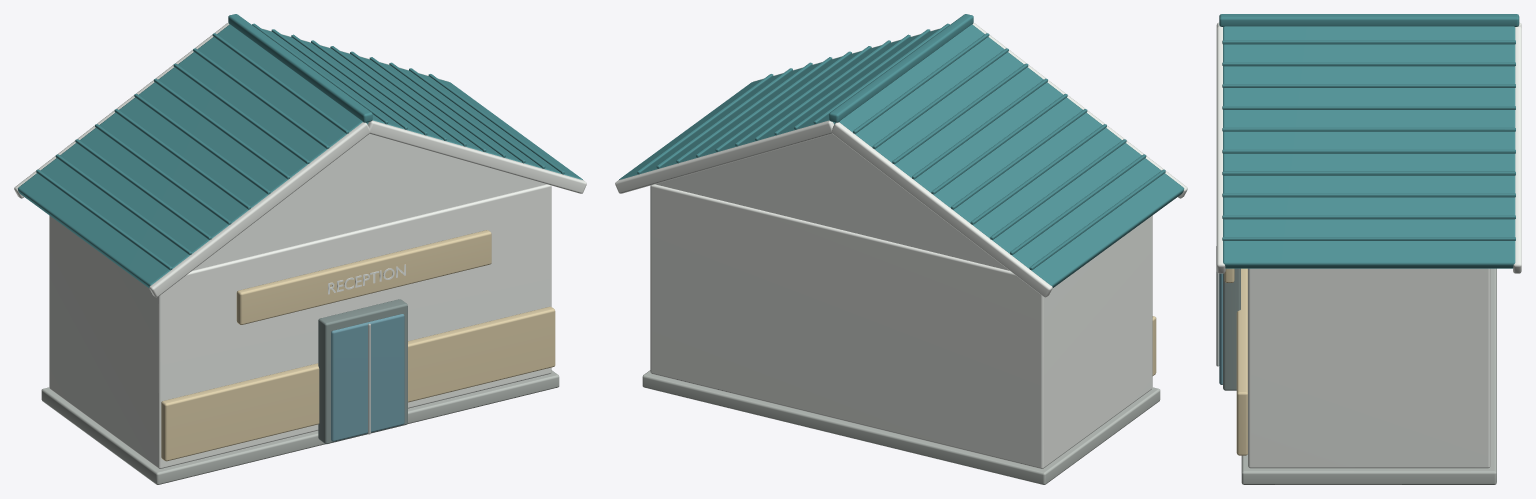
File: reception.glb
The picture shows the model from 3 angles, left to right: view 1: azimuth 30°, elevation 25°; view 2: azimuth 150°, elevation 25°; view 3: azimuth 270°, elevation 25°; orthographic projection. The views are drawn at different scales.
Visible parts, largest first — view 1: Building shell.003, Pitched roof plane.006, Facade accent.003, Triangular gable walls.003, Department sign.003, Entrance double glass doors.003, Pitched roof plane.007, Foundation.003, White gable fascia.012, Entrance door frame.003, White gable fascia.014, Roof ridge cap.003 (+20 smaller); view 2: Building shell.003, Pitched roof plane.006, Triangular gable walls.003, Foundation.003, Pitched roof plane.007, White gable fascia.013, White gable fascia.015, Roof ridge cap.003, White gable fascia.012, Roof tile course.069, Roof tile course.066, Roof tile course.068 (+16 smaller); view 3: Pitched roof plane.007, Building shell.003, Foundation.003, Roof ridge cap.003, Facade accent.003, White gable fascia.014, Entrance door frame.003, White gable fascia.015, Roof tile course.070, Roof tile course.075, Roof tile course.077, Roof tile course.071 (+8 smaller).
Boxes of the visible parts, <box> form: Building shell.003: <box>49,184,551,468</box>; Pitched roof plane.006: <box>17,24,366,287</box>; Facade accent.003: <box>161,306,555,461</box>; Triangular gable walls.003: <box>192,134,546,270</box>; Department sign.003: <box>236,230,491,324</box>; Entrance double glass doors.003: <box>331,314,404,441</box>; Pitched roof plane.007: <box>262,29,582,179</box>; Foundation.003: <box>41,370,559,484</box>; White gable fascia.012: <box>149,122,369,297</box>; Entrance door frame.003: <box>318,299,407,444</box>; White gable fascia.014: <box>368,120,586,193</box>; Roof ridge cap.003: <box>228,14,372,122</box>; Building shell.003: <box>650,184,1152,468</box>; Pitched roof plane.006: <box>835,24,1184,287</box>; Triangular gable walls.003: <box>655,134,1009,270</box>; Foundation.003: <box>642,370,1160,484</box>; Pitched roof plane.007: <box>619,29,939,179</box>; White gable fascia.013: <box>832,122,1052,297</box>; White gable fascia.015: <box>615,120,833,193</box>; Roof ridge cap.003: <box>829,14,973,122</box>; White gable fascia.012: <box>972,23,1187,198</box>; Roof tile course.069: <box>1029,169,1165,270</box>; Roof tile course.066: <box>970,124,1106,224</box>; Roof tile course.068: <box>1010,154,1146,254</box>; Pitched roof plane.007: <box>1223,26,1515,268</box>; Building shell.003: <box>1248,268,1490,468</box>; Foundation.003: <box>1241,268,1496,484</box>; Roof ridge cap.003: <box>1219,14,1519,26</box>; Facade accent.003: <box>1236,268,1247,455</box>; White gable fascia.014: <box>1216,26,1225,273</box>; Entrance door frame.003: <box>1223,268,1240,390</box>; White gable fascia.015: <box>1513,26,1521,273</box>; Roof tile course.070: <box>1222,40,1515,44</box>; Roof tile course.075: <box>1222,149,1515,153</box>; Roof tile course.077: <box>1222,193,1515,197</box>; Roof tile course.071: <box>1222,62,1515,66</box>.
Bounding box in the file's own units: 8.63 × 6.26 × 4.79.
